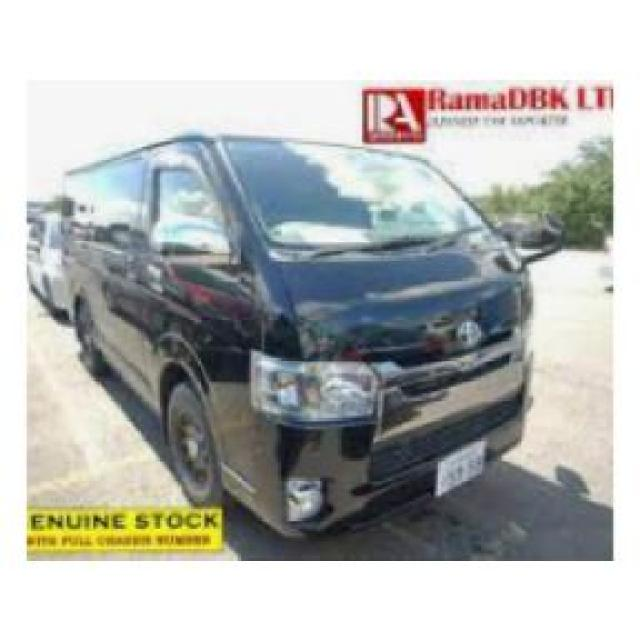Van: (55, 130, 528, 544)
